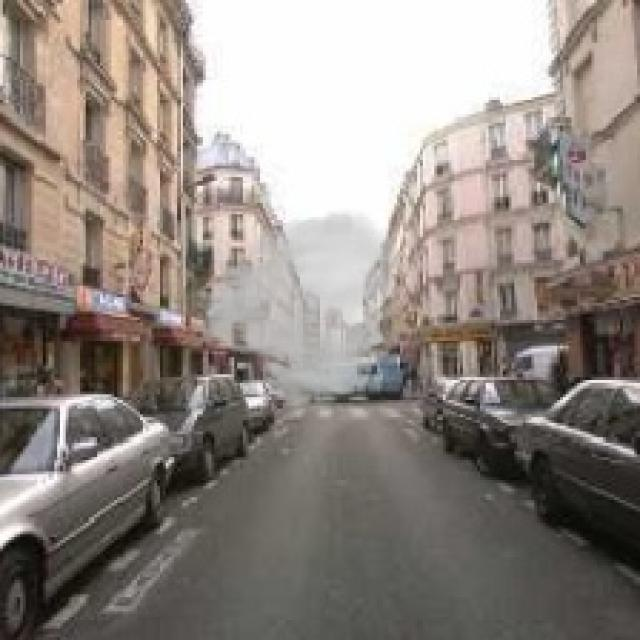smoke: (188, 208, 408, 412)
